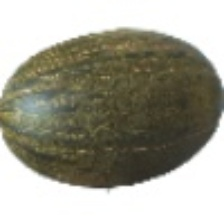honeydew: (26, 12, 203, 181)
